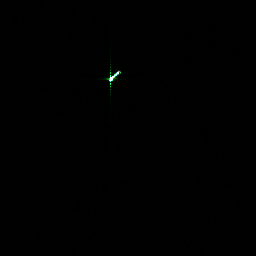ship: (106, 68, 122, 83)
